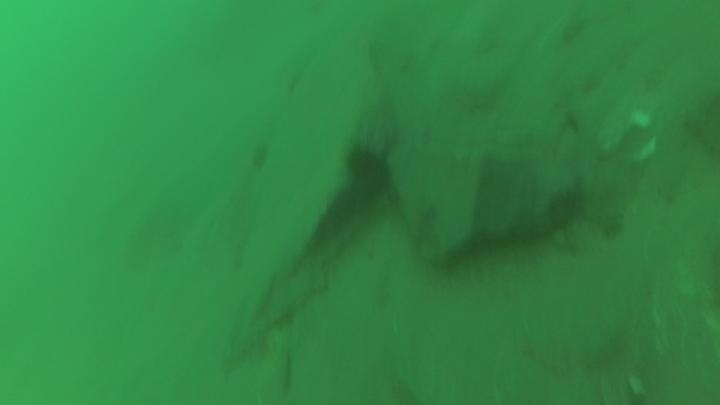echinus: (340, 137, 397, 206)
